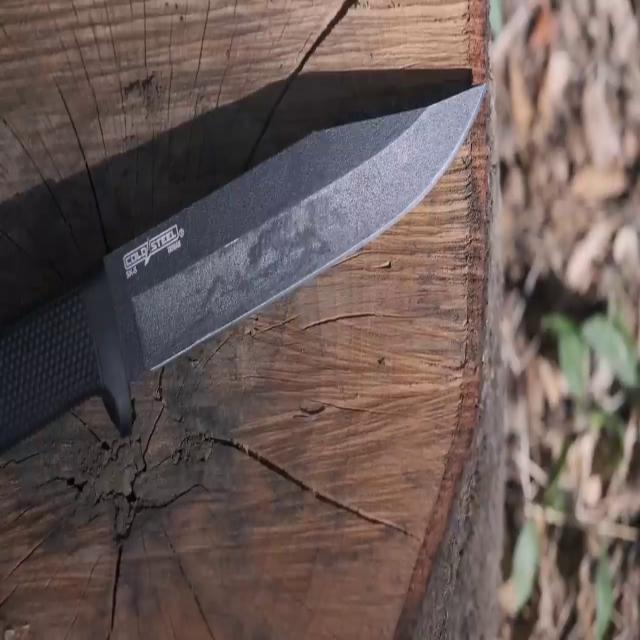Knife: (0, 75, 493, 464)
